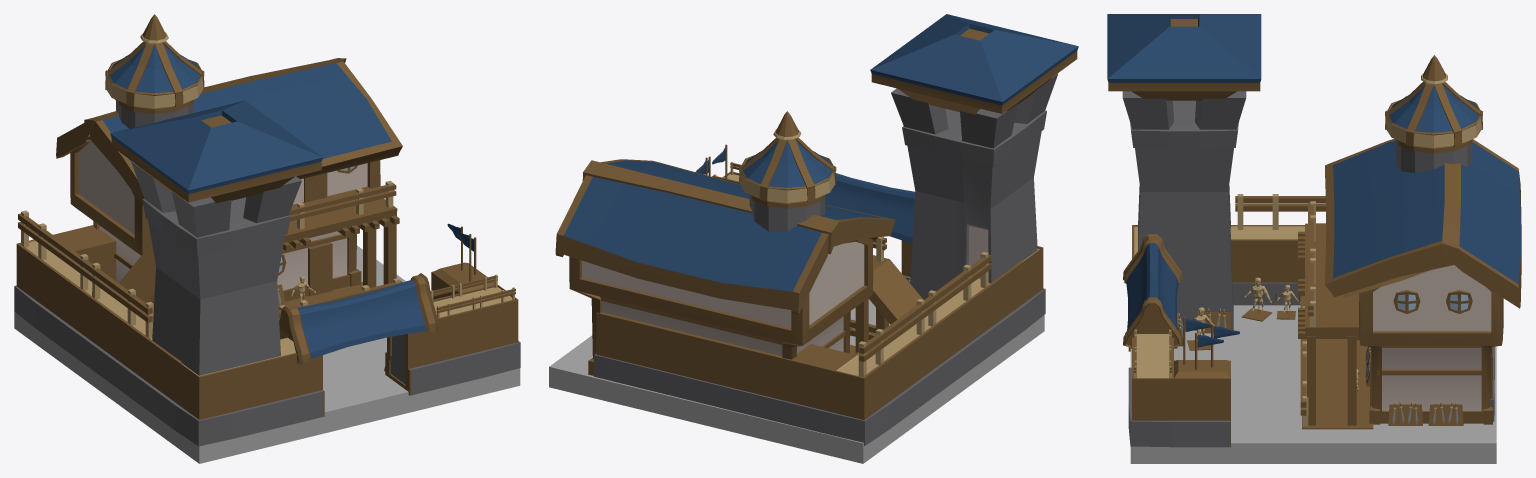
Rendered from Barracks.fbx.
3 views of the same model, side by side, from view 1: azimuth 30°, elevation 25°; view 2: azimuth 150°, elevation 25°; view 3: azimuth 270°, elevation 25° (orthographic). The views are drawn at different scales.
Visible parts, largest first — view 1: pCube120, pCube114, pCube126, polySurface404, pCube113, pCube115, polySurface400, polySurface54, polySurface324, polySurface411, polySurface401, pCube128 (+4 smaller); view 2: pCube120, pCube126, pCube114, pCube115, polySurface404, pCube113, polySurface54, polySurface324, polySurface400, polySurface414, polySurface411; view 3: pCube126, pCube113, pCube115, pCube114, pCube120, polySurface404, polySurface54, polySurface400, pCube135, polySurface411, polySurface324, polySurface409 (+8 smaller).
Boxes of the visible parts, x1,y1,x2,y2 form: pCube120: [14, 225, 520, 446]; pCube114: [131, 161, 301, 375]; pCube126: [56, 58, 402, 205]; polySurface404: [110, 100, 322, 203]; pCube113: [14, 245, 520, 463]; pCube115: [70, 141, 397, 308]; polySurface400: [279, 273, 438, 364]; polySurface54: [105, 41, 204, 128]; polySurface324: [18, 210, 153, 338]; polySurface411: [282, 215, 399, 287]; polySurface401: [289, 180, 396, 229]; pCube128: [308, 242, 332, 296]; pCube120: [594, 171, 1045, 445]; pCube126: [555, 159, 895, 314]; pCube114: [891, 73, 1057, 299]; pCube115: [569, 238, 922, 375]; polySurface404: [870, 14, 1078, 114]; pCube113: [549, 299, 1044, 463]; polySurface54: [739, 137, 836, 231]; polySurface324: [858, 252, 991, 376]; polySurface400: [825, 173, 915, 243]; polySurface414: [599, 296, 848, 348]; polySurface411: [855, 298, 888, 353]; pCube126: [1325, 139, 1521, 308]; pCube113: [1130, 305, 1496, 463]; pCube115: [1305, 223, 1503, 424]; pCube114: [1122, 91, 1246, 330]; pCube120: [1128, 225, 1494, 447]; polySurface404: [1107, 14, 1261, 100]; polySurface54: [1385, 81, 1482, 172]; polySurface400: [1123, 234, 1181, 347]; pCube135: [1302, 339, 1373, 429]; polySurface411: [1298, 231, 1356, 425]; polySurface324: [1235, 194, 1325, 229]; polySurface409: [1393, 290, 1472, 313].
Size of the model in its own units: 17.25 by 14.98 by 18.12.
